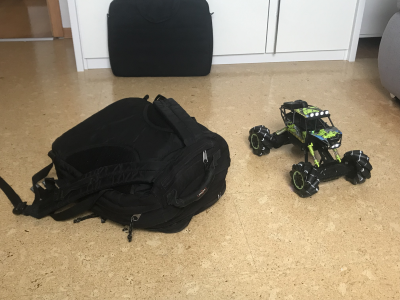remote control car: (247, 97, 374, 200)
